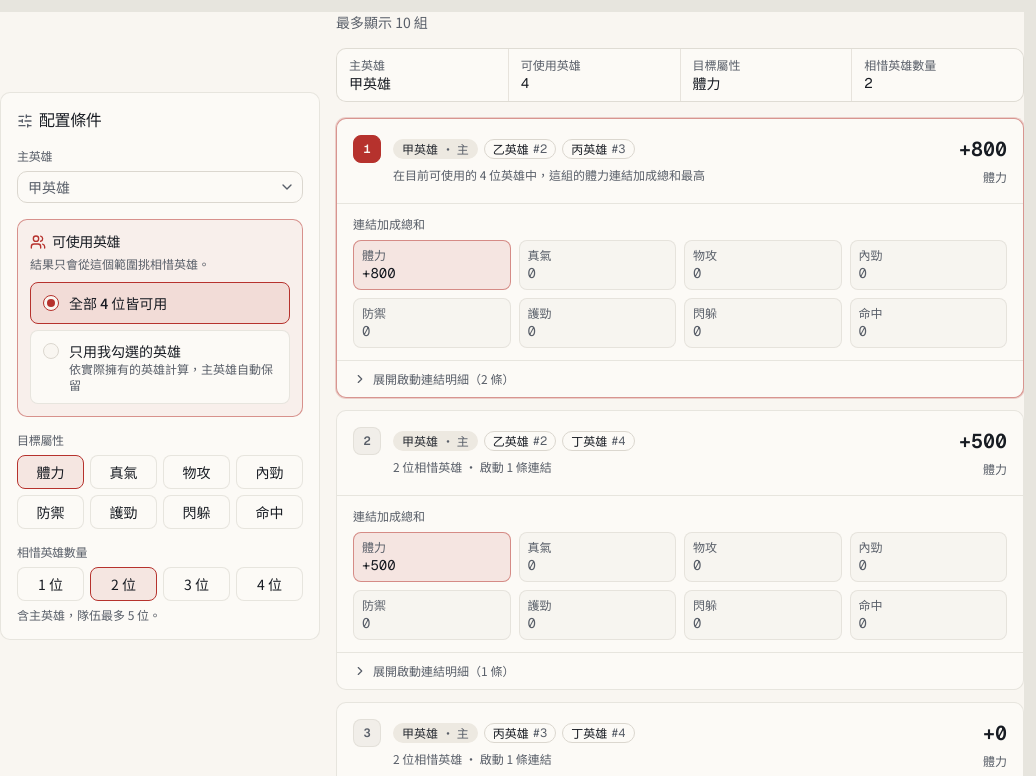
Test: HeroTeamBuilder › 結果分開列出含主英雄與相惜英雄彼此的連結
Click the button "展開啟動連結明細（2 條）" at (427, 378), box [337,361,1023,397]
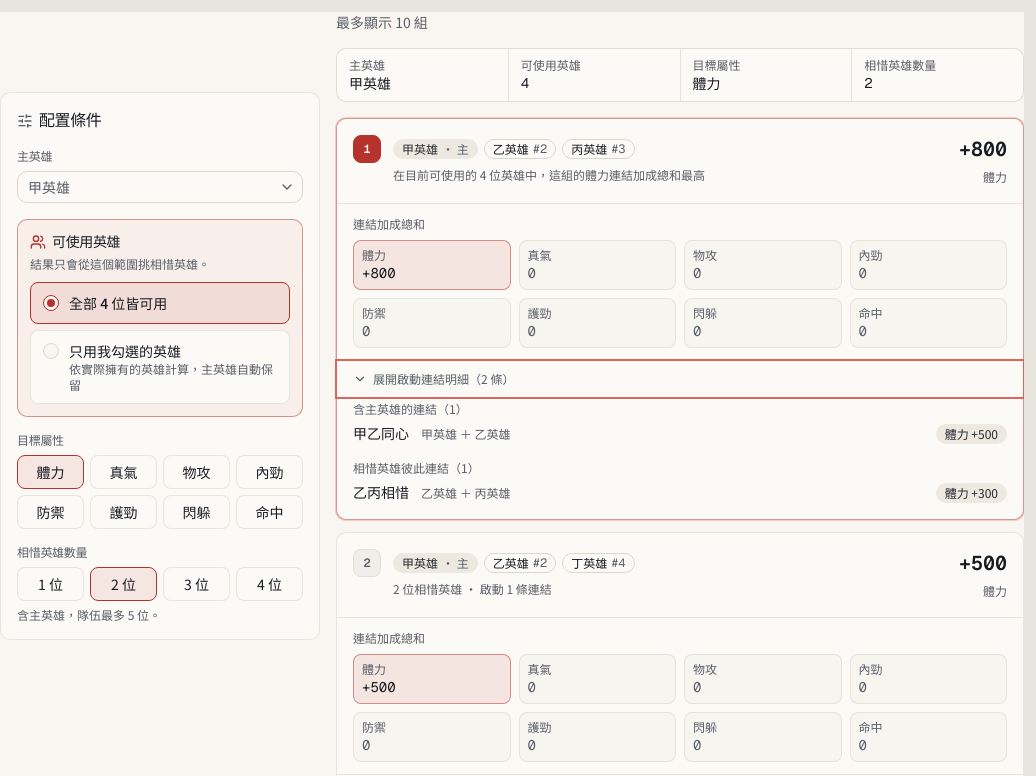
expect the heading "含主英雄的連結（1）" is shown: met, box [353,400,468,417]
expect the heading "相惜英雄彼此連結（1）" is shown: met, box [353,459,480,476]
